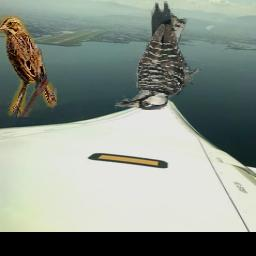Sparrow: (0, 15, 57, 117)
Woodpecker: (115, 0, 202, 111)
